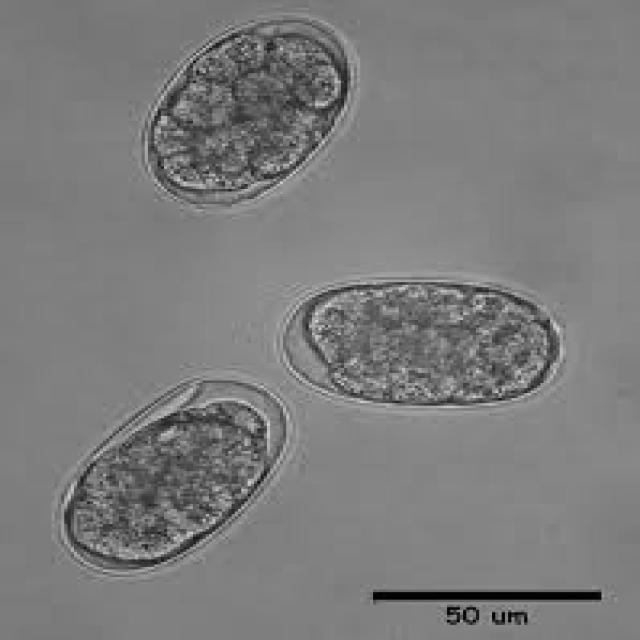Ancylostoma Spp: (45, 369, 322, 594), (262, 264, 587, 426), (138, 6, 367, 213)
